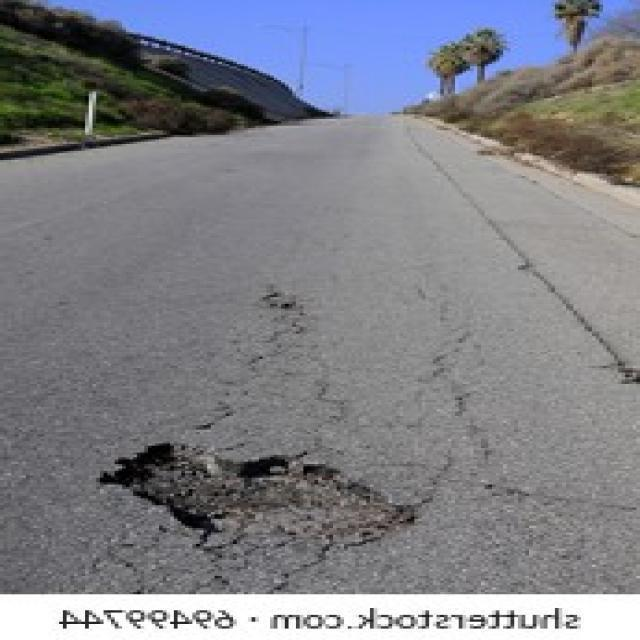pothole: (96, 439, 411, 547)
